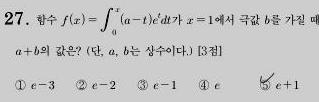choice: (258, 75, 272, 93)
not-choice: (74, 78, 87, 92), (13, 78, 26, 91), (197, 78, 210, 91), (136, 78, 148, 91)
